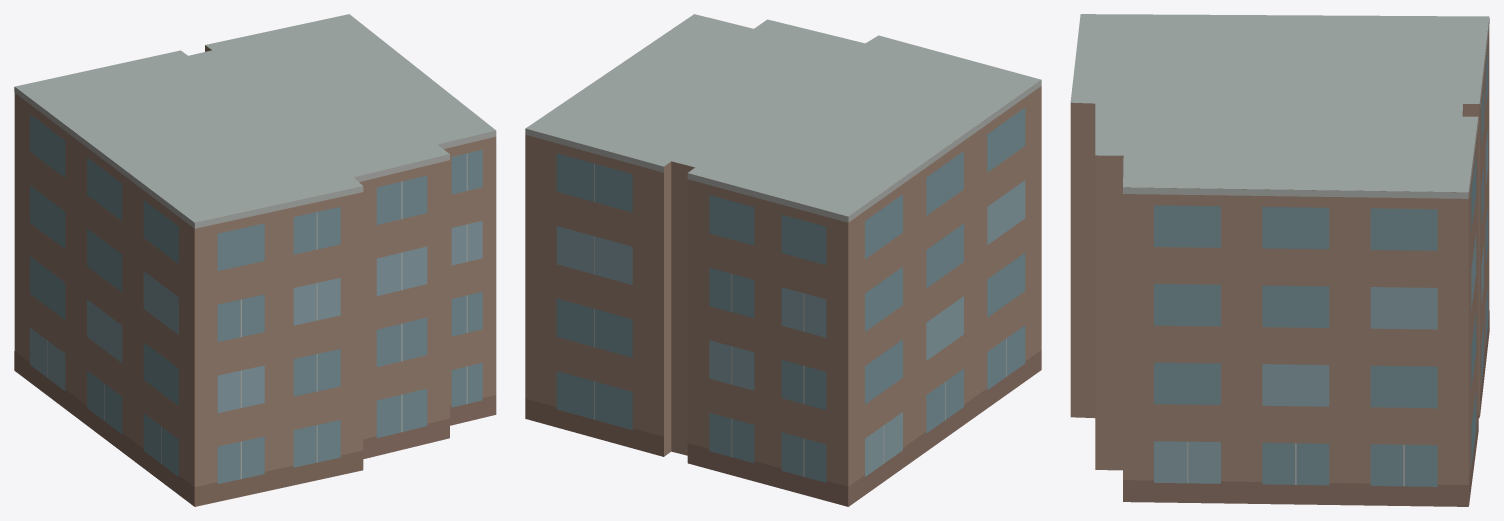
The model's file is survey-upis-33038970.glb.
3 renders of one model, left to right at view 1: azimuth 30°, elevation 25°; view 2: azimuth 150°, elevation 25°; view 3: azimuth 270°, elevation 25°, orthographic. The views are drawn at different scales.
Visible parts, largest first — view 1: survey-upis-33038970.tmp; view 2: survey-upis-33038970.tmp; view 3: survey-upis-33038970.tmp.
Boxes of the visible parts, box(x1,y1,x2,y2) form: survey-upis-33038970.tmp: box(14, 14, 496, 506); survey-upis-33038970.tmp: box(525, 14, 1041, 506); survey-upis-33038970.tmp: box(1070, 14, 1489, 506).
Size of the model in its own units: 14.08 by 11.58 by 13.99.
